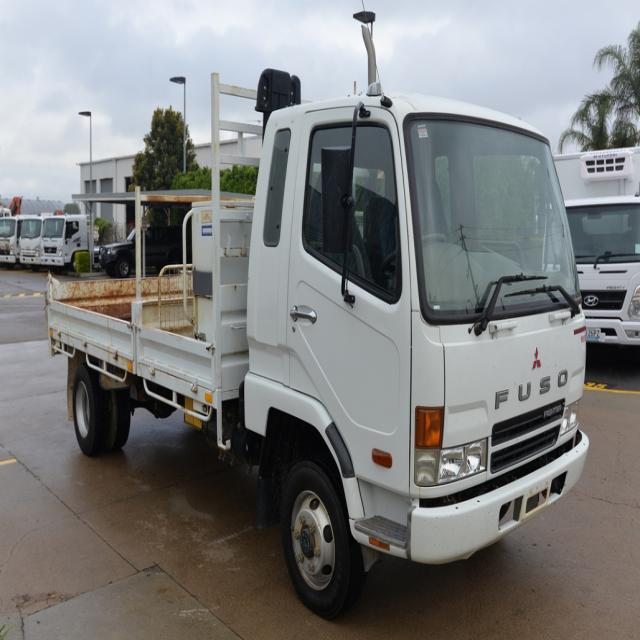car: (45, 70, 588, 606)
